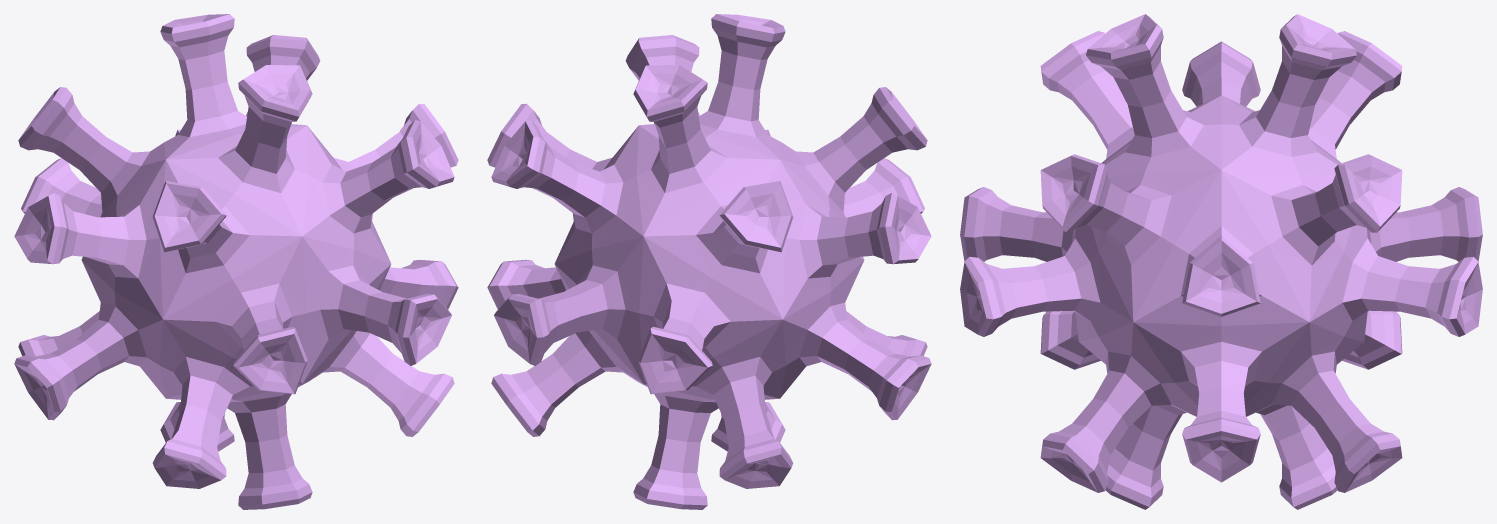
3 renders of one model, left to right at view 1: azimuth 30°, elevation 25°; view 2: azimuth 150°, elevation 25°; view 3: azimuth 270°, elevation 25°, orthographic. The views are drawn at different scales.
Visible parts, largest first — view 1: Virus; view 2: Virus; view 3: Virus.
Part boxes in pixels (x1,y1,x2,y2): Virus: (14,14,458,509); Virus: (487,14,931,509); Virus: (960,14,1482,509).
Bounding box in the file's own units: 21.19 × 21.19 × 21.19.
